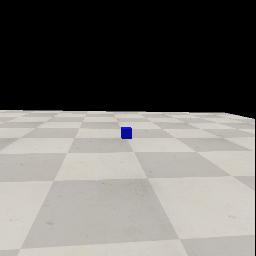box: (121, 127, 132, 139)
